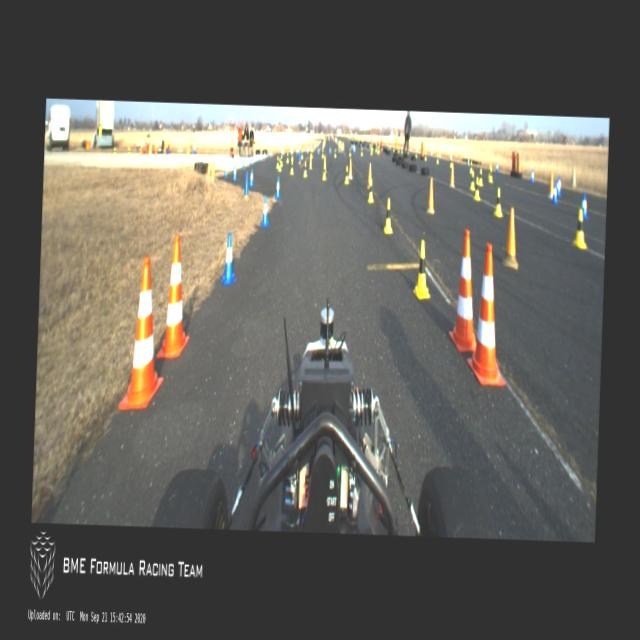blue_cone: (221, 232, 236, 285), (261, 194, 270, 226), (580, 191, 588, 219), (551, 182, 558, 204), (274, 176, 280, 198), (556, 175, 561, 196), (249, 168, 254, 187), (232, 163, 237, 182), (224, 160, 228, 177), (530, 168, 534, 183), (242, 155, 245, 168), (250, 154, 252, 166), (256, 150, 258, 162), (467, 156, 469, 167), (263, 150, 265, 160), (496, 162, 498, 172), (317, 146, 319, 156), (270, 149, 272, 158), (306, 146, 308, 155), (296, 147, 298, 156), (329, 145, 331, 154), (430, 150, 432, 158)
large_orange_cone: (118, 256, 167, 410), (466, 243, 510, 386), (156, 235, 192, 358), (447, 228, 480, 352)
yellow_cone: (412, 238, 432, 298), (572, 208, 588, 248), (382, 197, 393, 234), (493, 188, 503, 216), (468, 168, 476, 190), (367, 178, 374, 202), (473, 177, 480, 200), (478, 167, 483, 186), (303, 160, 308, 178), (344, 166, 349, 183), (488, 168, 493, 182), (322, 163, 326, 180), (278, 158, 282, 172), (290, 160, 294, 174), (469, 160, 472, 172), (449, 156, 452, 168), (276, 156, 278, 170), (280, 154, 282, 166), (286, 151, 288, 163), (436, 152, 438, 164), (301, 148, 303, 158), (334, 148, 336, 158), (424, 150, 426, 160), (415, 148, 417, 158), (291, 150, 293, 159), (322, 149, 324, 158), (349, 147, 351, 156), (370, 146, 372, 155), (401, 146, 403, 155), (310, 148, 312, 156), (360, 148, 362, 156), (397, 144, 399, 152), (392, 145, 394, 152), (376, 148, 378, 154)
